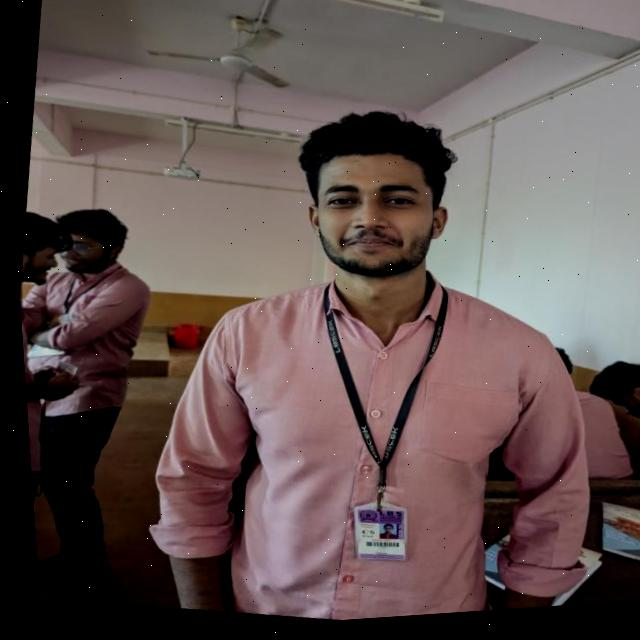id_card: (272, 280, 466, 581)
